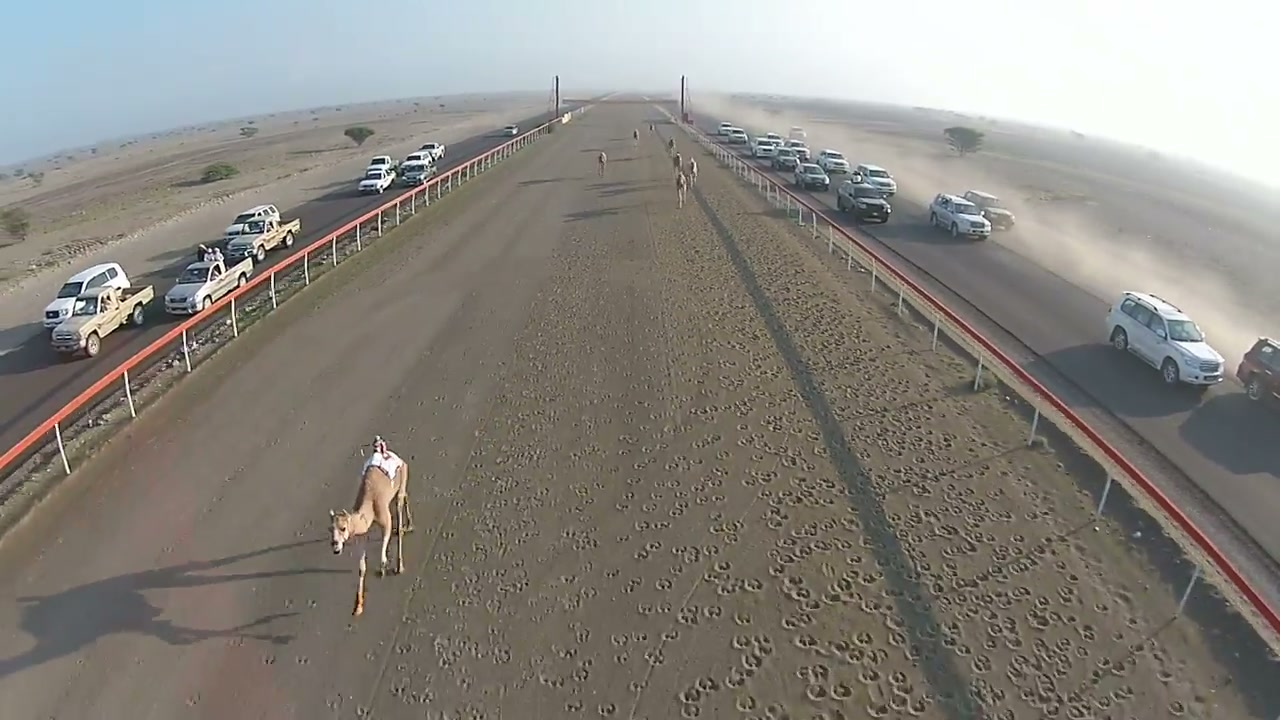animal_footprint: (388, 161, 1256, 719)
